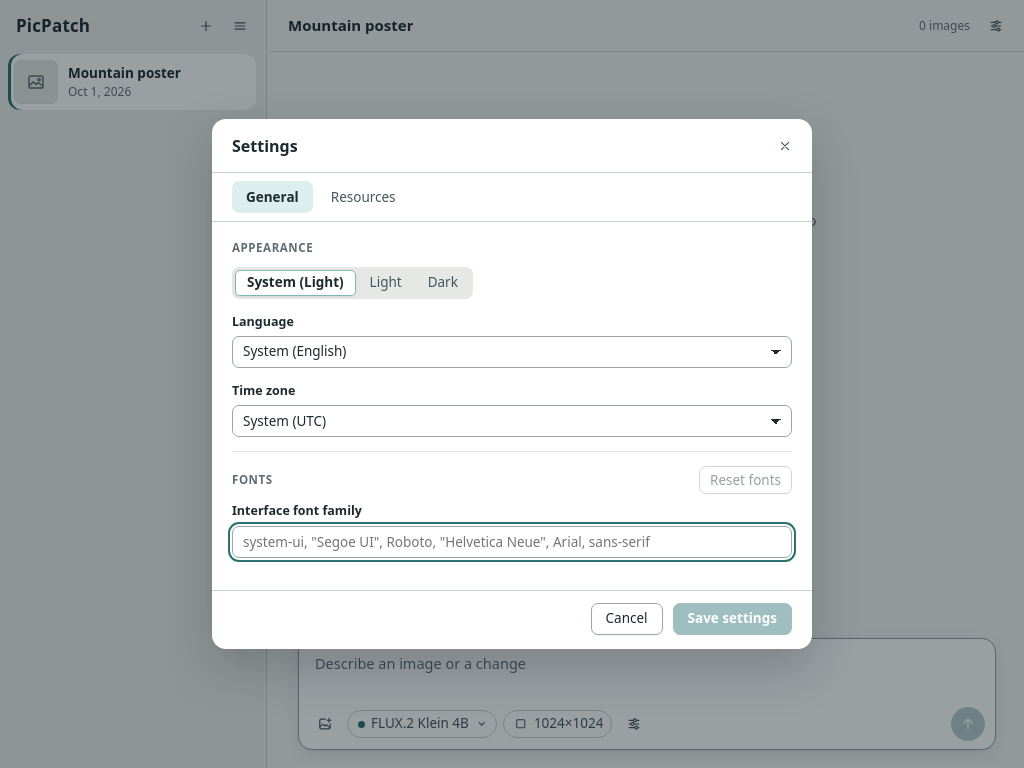
Scenario: asks before discarding changed settings and saves only chosen values
Check: the text box named "Command" is shown, box left=309, top=649, right=985, bottom=701
Replace the text in the field labelled "Interface font family" with "Avenir" at (512, 542), box left=232, top=526, right=792, bottom=558
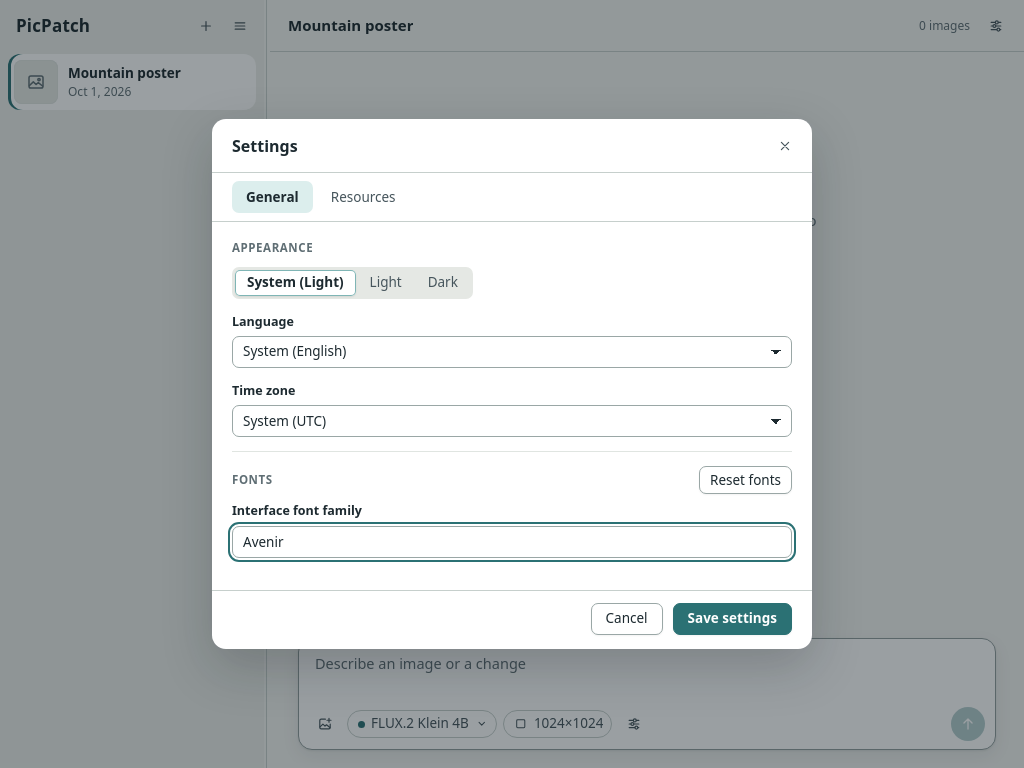
Click the button "Cancel" at (626, 618), box left=590, top=602, right=662, bottom=634
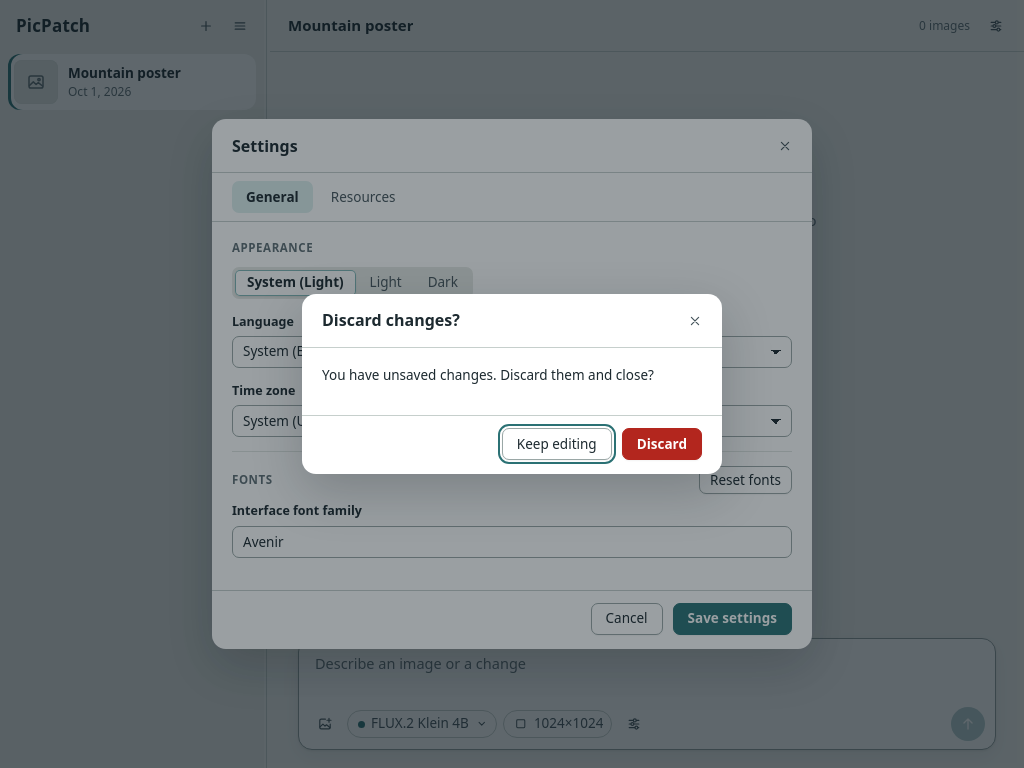
Check: the text "You have unsaved changes. Discard them and close?" is shown, box left=322, top=366, right=702, bottom=385
Check: the button "Discard" is shown, box left=622, top=428, right=702, bottom=460
Click the button "Keep editing" at (557, 444), box left=502, top=428, right=612, bottom=460
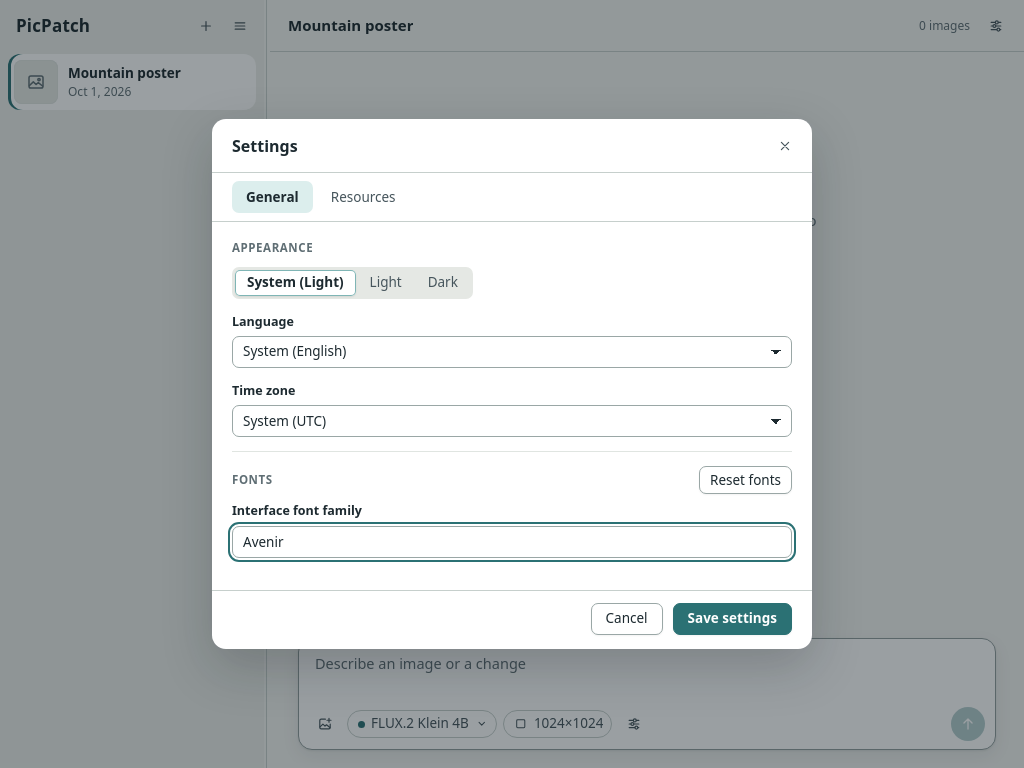
Check: the heading "Discard changes?" is gone
Click the button "Save settings" at (732, 618), box left=673, top=602, right=792, bottom=634
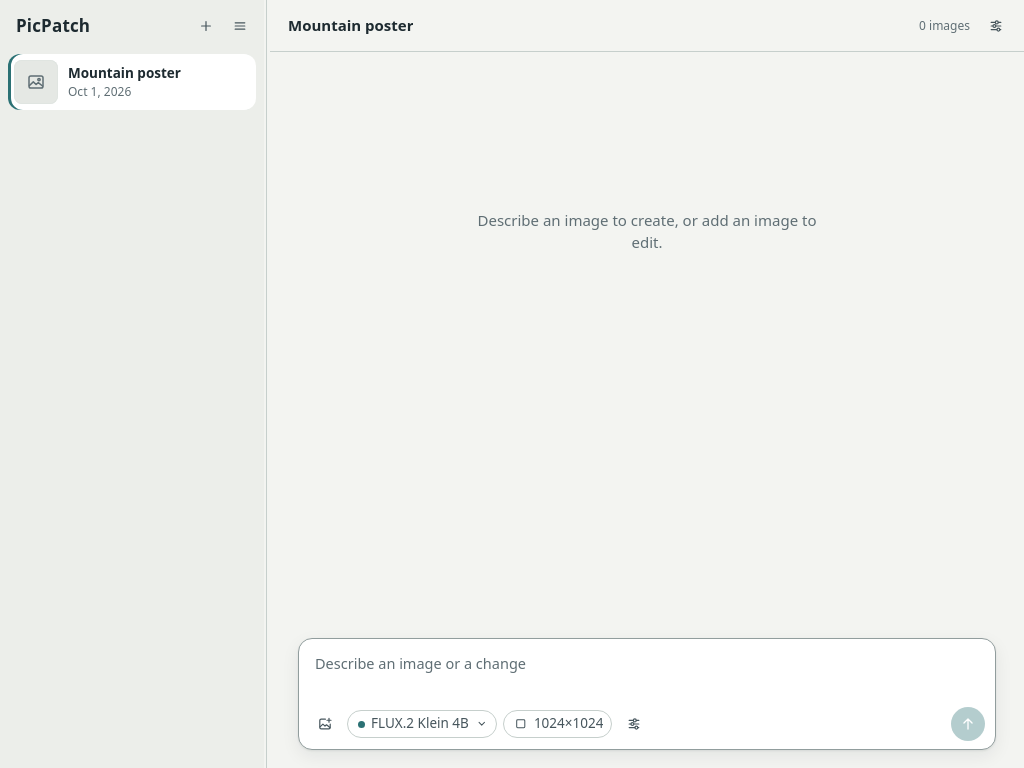
Check: the heading "Settings" is gone
